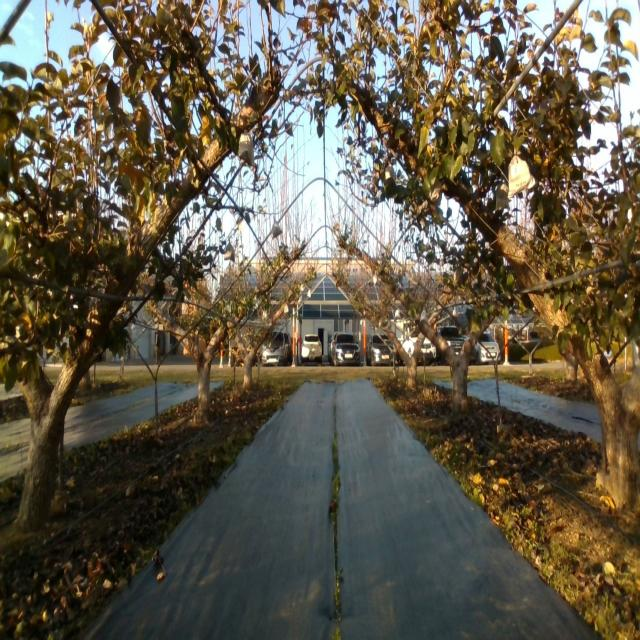pearbags: (507, 150, 535, 200), (238, 131, 255, 167), (495, 182, 510, 212), (224, 240, 235, 263), (272, 221, 282, 239)
